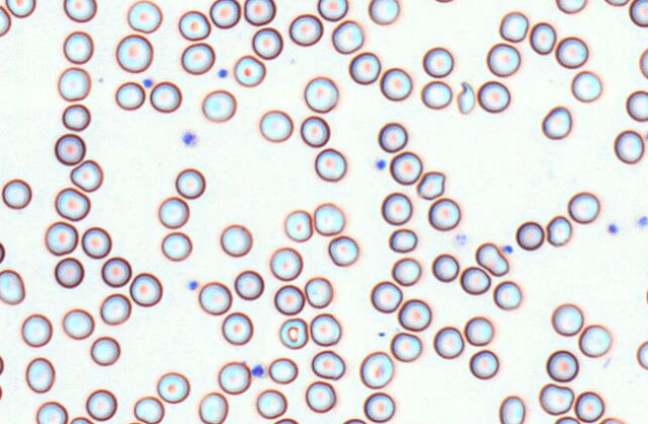PLT: (179, 130, 197, 146), (608, 222, 621, 237), (252, 361, 263, 378), (637, 214, 648, 230), (186, 280, 199, 293), (501, 243, 514, 256), (375, 158, 386, 170), (142, 77, 154, 87), (218, 69, 229, 79)
RBC: (115, 33, 153, 73), (303, 76, 338, 113), (359, 351, 393, 388), (54, 187, 90, 221), (57, 66, 91, 101), (217, 360, 251, 394), (44, 221, 78, 255), (486, 42, 520, 76), (198, 281, 232, 315), (288, 13, 323, 46), (127, 0, 162, 33), (269, 246, 302, 281), (201, 89, 236, 122), (538, 383, 574, 415), (69, 159, 103, 192), (397, 298, 431, 331), (389, 151, 422, 185), (129, 272, 162, 306), (379, 67, 412, 101), (259, 109, 293, 142), (180, 42, 215, 74), (25, 356, 55, 393), (578, 324, 611, 357), (348, 51, 381, 84), (427, 197, 460, 230), (477, 80, 510, 113), (156, 371, 190, 403), (551, 302, 583, 336), (309, 312, 341, 346), (331, 19, 363, 53), (221, 311, 253, 345), (314, 147, 346, 181), (370, 280, 402, 313), (85, 388, 117, 421), (546, 349, 578, 382), (233, 54, 265, 87), (220, 223, 252, 256), (567, 191, 600, 223), (555, 36, 588, 68), (21, 313, 52, 347), (381, 191, 412, 225), (541, 105, 572, 139), (614, 129, 644, 164), (251, 27, 283, 59), (570, 70, 602, 102), (305, 380, 336, 413), (313, 202, 344, 235), (311, 349, 345, 379), (63, 30, 93, 64), (62, 308, 94, 339), (433, 326, 464, 358), (255, 388, 287, 419), (363, 391, 395, 422), (100, 293, 131, 325), (158, 196, 189, 228), (54, 133, 85, 165), (149, 81, 181, 112), (390, 331, 421, 362), (1, 178, 32, 209), (327, 235, 358, 266), (422, 46, 453, 77), (198, 391, 228, 423), (81, 226, 111, 258), (175, 167, 205, 199), (300, 115, 330, 147), (178, 10, 210, 40), (284, 209, 313, 242), (54, 257, 84, 288), (574, 391, 604, 422), (101, 256, 131, 287), (274, 284, 304, 315), (161, 231, 192, 261), (234, 269, 264, 300), (304, 276, 333, 308), (420, 80, 452, 109), (279, 317, 308, 349), (499, 10, 528, 42), (0, 268, 25, 304), (90, 336, 120, 366), (469, 349, 499, 379), (377, 122, 407, 152), (529, 21, 556, 54), (391, 257, 421, 286), (464, 316, 493, 346), (515, 220, 544, 250), (115, 81, 145, 110), (459, 266, 490, 294), (209, 0, 240, 28), (133, 396, 164, 423), (545, 215, 572, 246), (431, 253, 459, 282), (493, 280, 521, 309), (61, 103, 90, 131), (268, 357, 298, 384), (243, 0, 275, 25), (368, 0, 399, 25), (498, 395, 524, 423), (63, 0, 96, 22), (388, 227, 417, 252), (36, 401, 68, 423), (317, 0, 348, 21), (626, 90, 647, 121), (5, 0, 36, 18), (629, 0, 648, 27), (555, 0, 587, 14), (0, 5, 11, 37), (636, 340, 647, 369), (639, 47, 648, 79), (553, 415, 580, 423), (598, 416, 625, 423), (69, 416, 93, 423), (273, 417, 299, 423), (603, 0, 629, 6), (341, 417, 366, 423), (0, 241, 5, 263), (0, 354, 4, 375), (432, 0, 457, 3), (122, 421, 146, 424), (645, 284, 648, 307), (644, 127, 648, 143), (0, 383, 3, 402)
Schistocyte: (475, 242, 510, 275), (417, 171, 449, 200), (457, 80, 475, 117)
